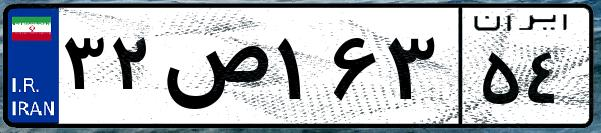1: (270, 28, 330, 110)
2: (110, 28, 158, 98)
3: (385, 28, 445, 110), (57, 26, 110, 100)
4: (525, 38, 570, 115)
5: (475, 38, 525, 113)
6: (330, 28, 385, 110)
ص: (158, 20, 270, 120)
